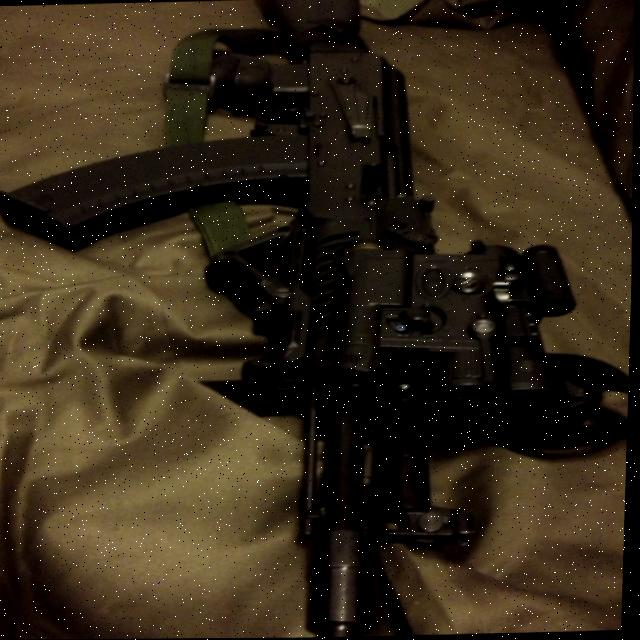firearm: (0, 0, 590, 640)
